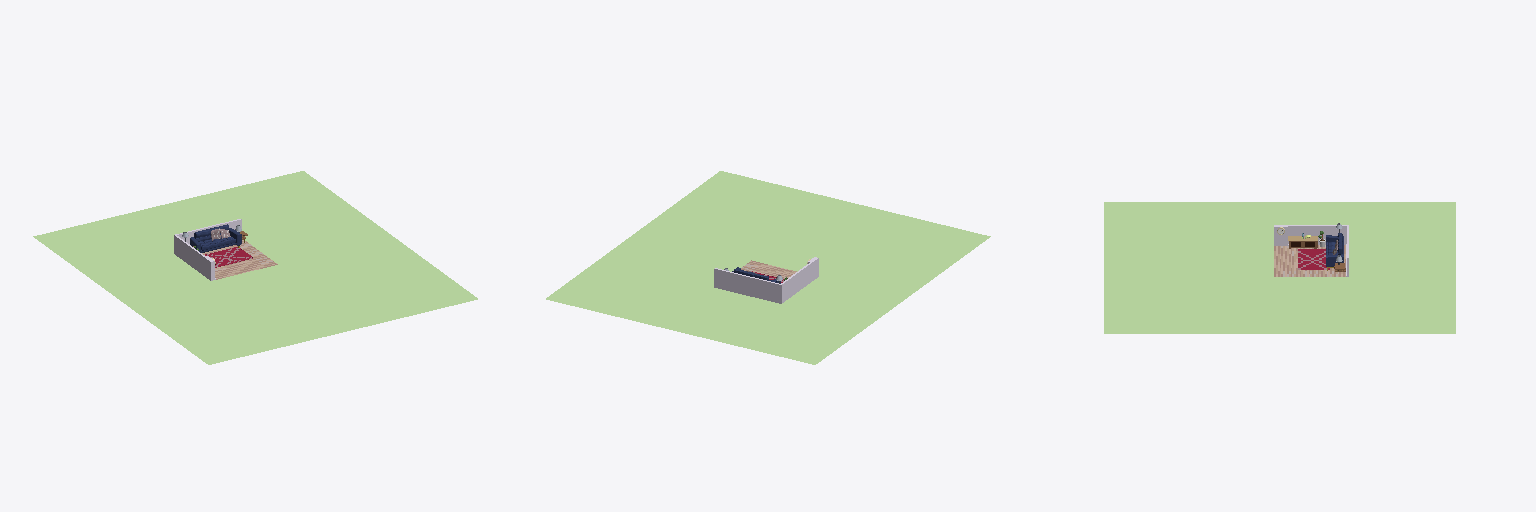
The model's file is 7_livingroom.obj.
The picture shows the model from 3 angles: view 1: azimuth 30°, elevation 25°; view 2: azimuth 150°, elevation 25°; view 3: azimuth 270°, elevation 25°; orthographic projection.
Visible parts, largest first — view 1: green_gnd, wall, floor; view 2: green_gnd, wall; view 3: green_gnd, floor, wall, carpet.
Boxes of the visible parts, x1,y1,x2,y2 form: green_gnd: [33, 171, 477, 364]; wall: [174, 219, 241, 280]; floor: [202, 240, 277, 279]; green_gnd: [546, 171, 990, 364]; wall: [714, 257, 818, 303]; green_gnd: [1104, 202, 1455, 333]; floor: [1274, 245, 1345, 276]; wall: [1274, 225, 1348, 276]; carpet: [1298, 249, 1329, 269].
Bounding box in the file's own units: 167 × 14.11 × 188.